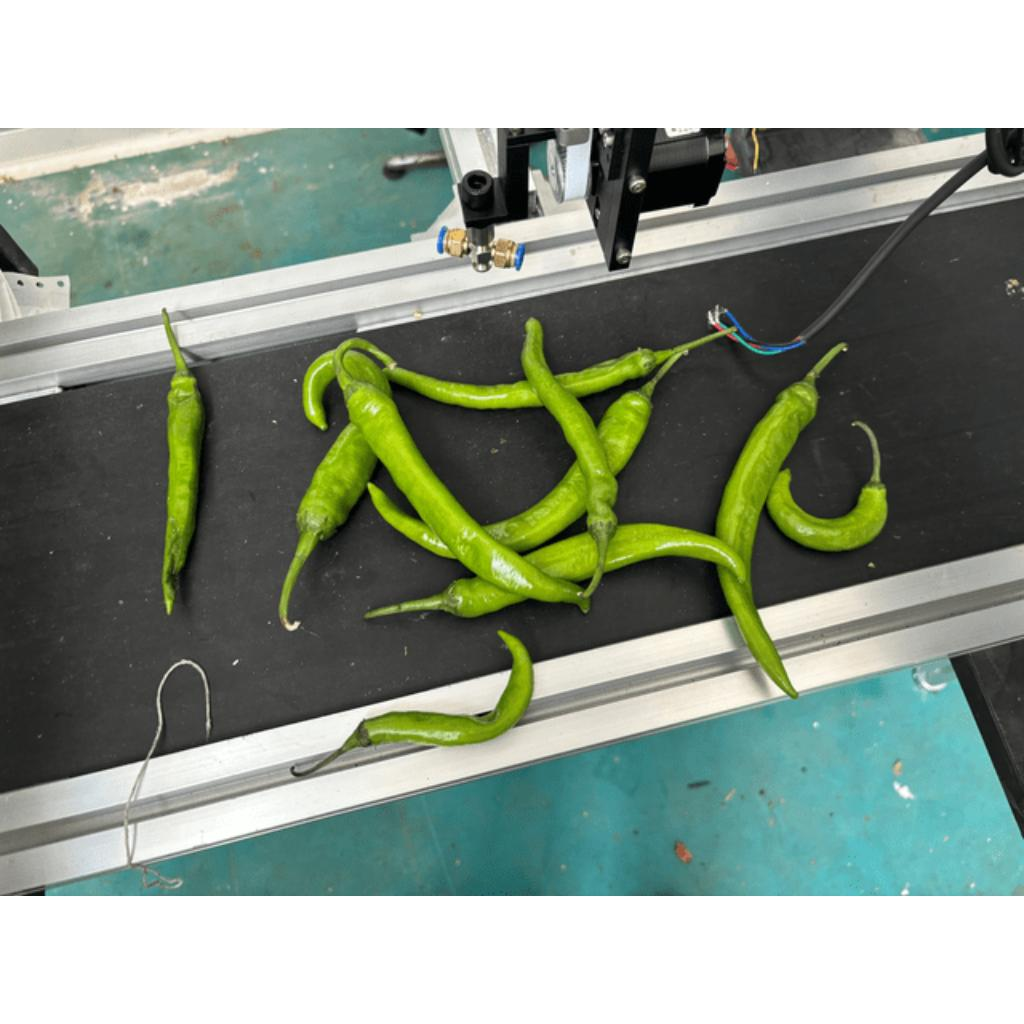chili: (343, 374, 592, 622), (365, 391, 657, 566), (717, 379, 821, 706), (439, 521, 750, 622), (518, 314, 622, 548), (348, 628, 536, 749), (296, 346, 401, 545), (377, 346, 663, 412), (158, 367, 211, 624), (766, 468, 891, 553)
